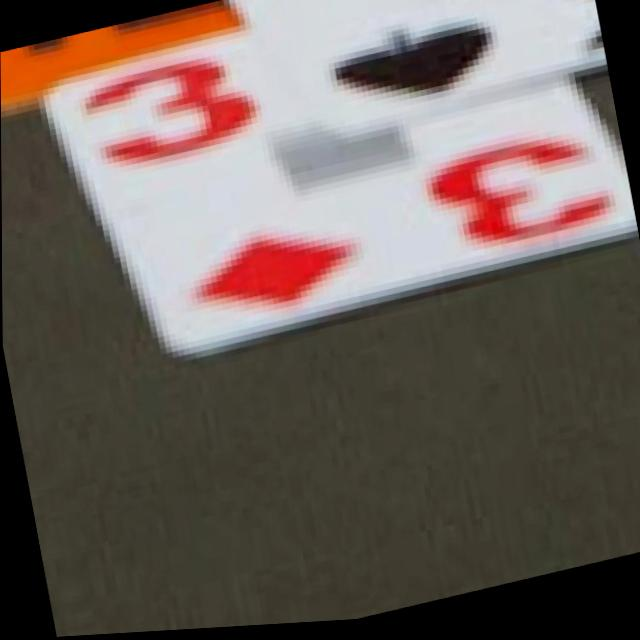Card-3: (45, 37, 635, 357)
